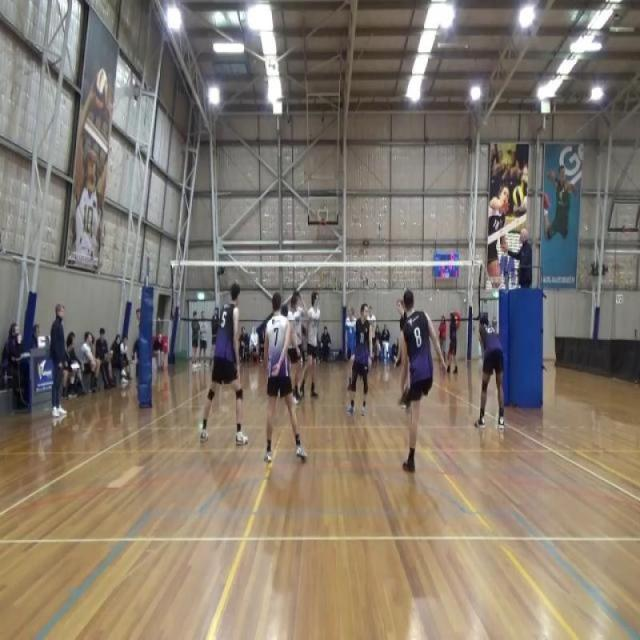volleyball: (94, 68, 108, 111), (512, 185, 525, 207)
